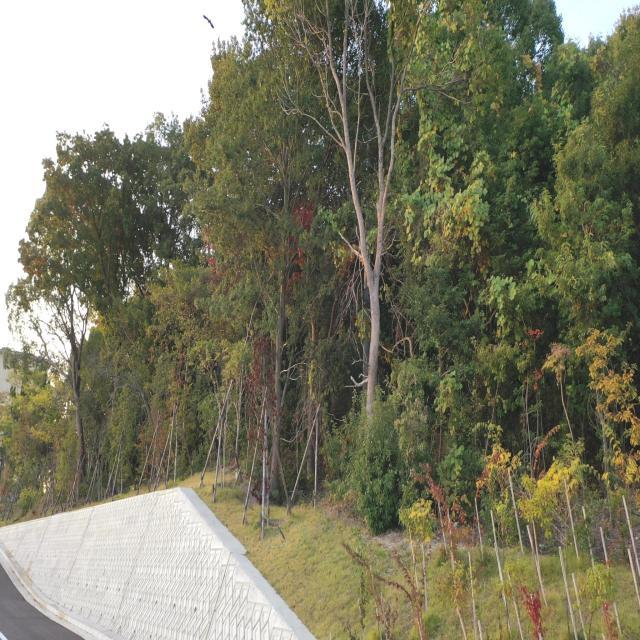Birds: (195, 6, 222, 44)
